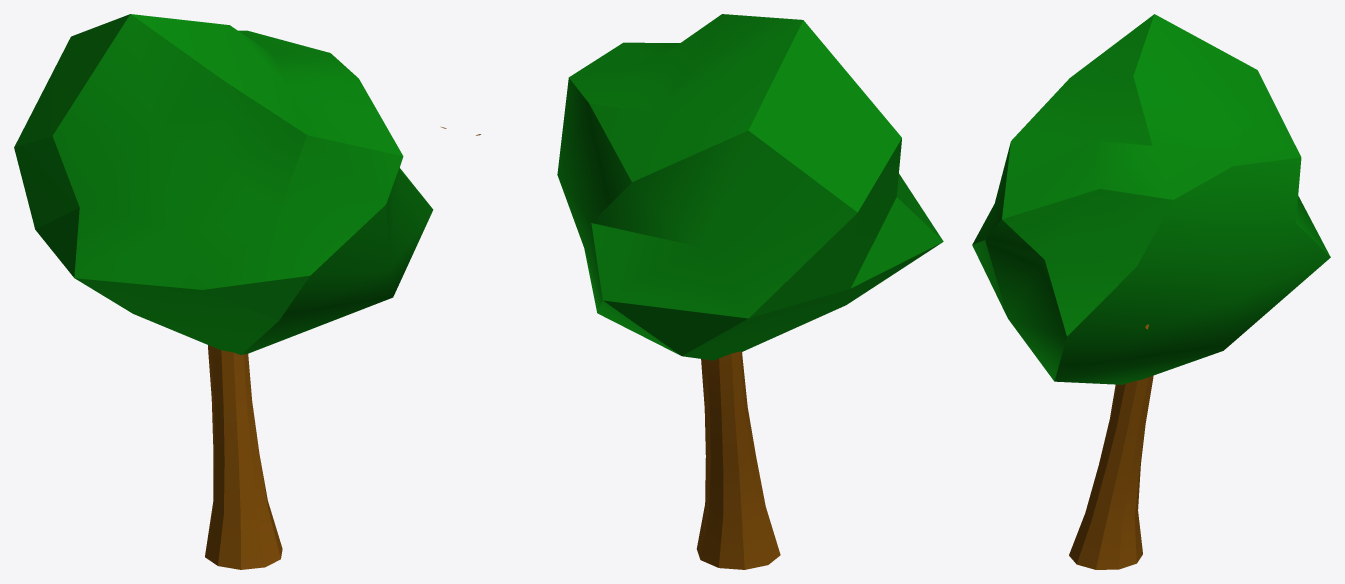
File: tree2.fbx
3 renders of one model, left to right at view 1: azimuth 30°, elevation 25°; view 2: azimuth 150°, elevation 25°; view 3: azimuth 270°, elevation 25°, orthographic. The views are drawn at different scales.
Visible parts, largest first — view 1: Cylinder.002; view 2: Cylinder.002; view 3: Cylinder.002.
Boxes of the visible parts, box(x1,y1,x2,y2) form: Cylinder.002: box(14, 14, 446, 569); Cylinder.002: box(476, 14, 943, 569); Cylinder.002: box(972, 14, 1330, 569).
Bounding box in the file's own units: 1343 × 1709 × 1108.
1 material, 1 textured.
